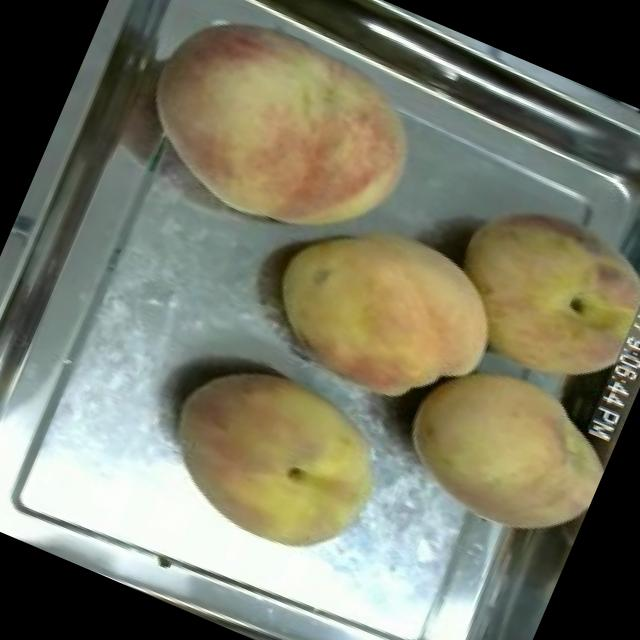Fruit: (110, 0, 458, 277), (241, 182, 528, 442), (136, 330, 408, 580), (375, 330, 629, 562), (416, 169, 640, 421)
